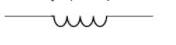inductor: (43, 10, 115, 31)
